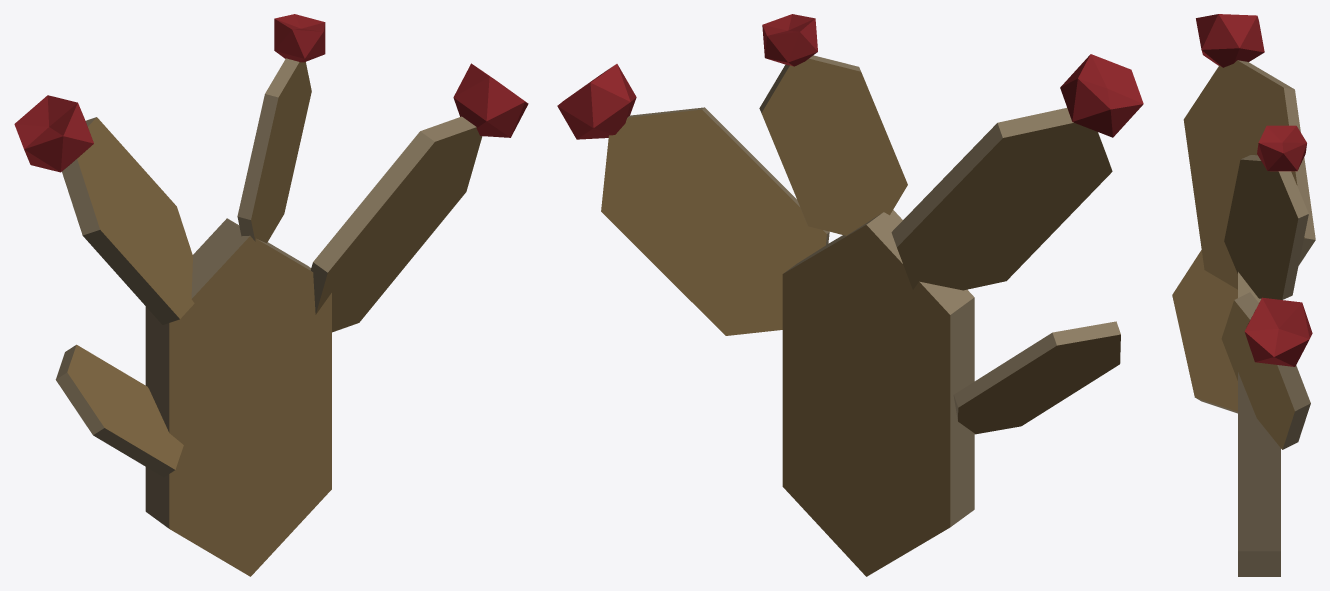
The model's file is TB_D_Env_CactusG_B.FBX.
The picture shows the model from 3 angles, left to right: view 1: azimuth 30°, elevation 25°; view 2: azimuth 150°, elevation 25°; view 3: azimuth 270°, elevation 25°; orthographic projection. The views are drawn at different scales.
Parts seen in each view (by area): view 1: TB_D_Env_CactusG_B; view 2: TB_D_Env_CactusG_B; view 3: TB_D_Env_CactusG_B.
Boxes of the visible parts, x1,y1,x2,y2 form: TB_D_Env_CactusG_B: (14,14,528,576); TB_D_Env_CactusG_B: (557,14,1143,576); TB_D_Env_CactusG_B: (1172,14,1315,576).
Bounding box in the file's own units: 1.09 × 1.03 × 0.2787.
